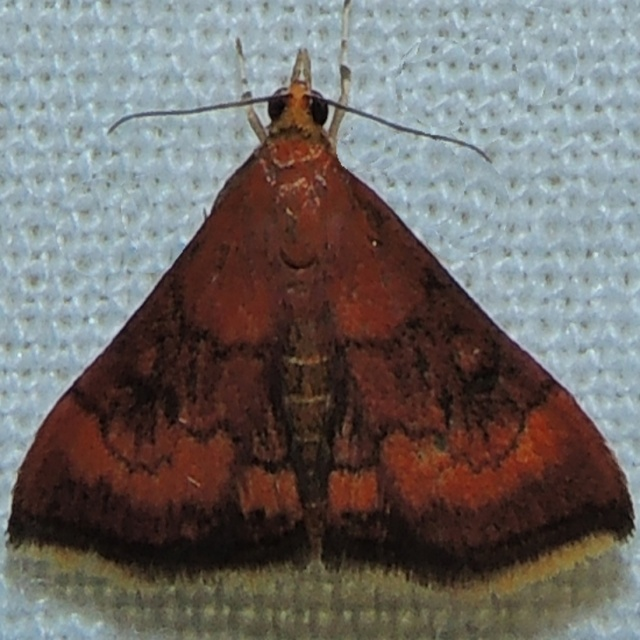Butterfly: (10, 19, 616, 595)
